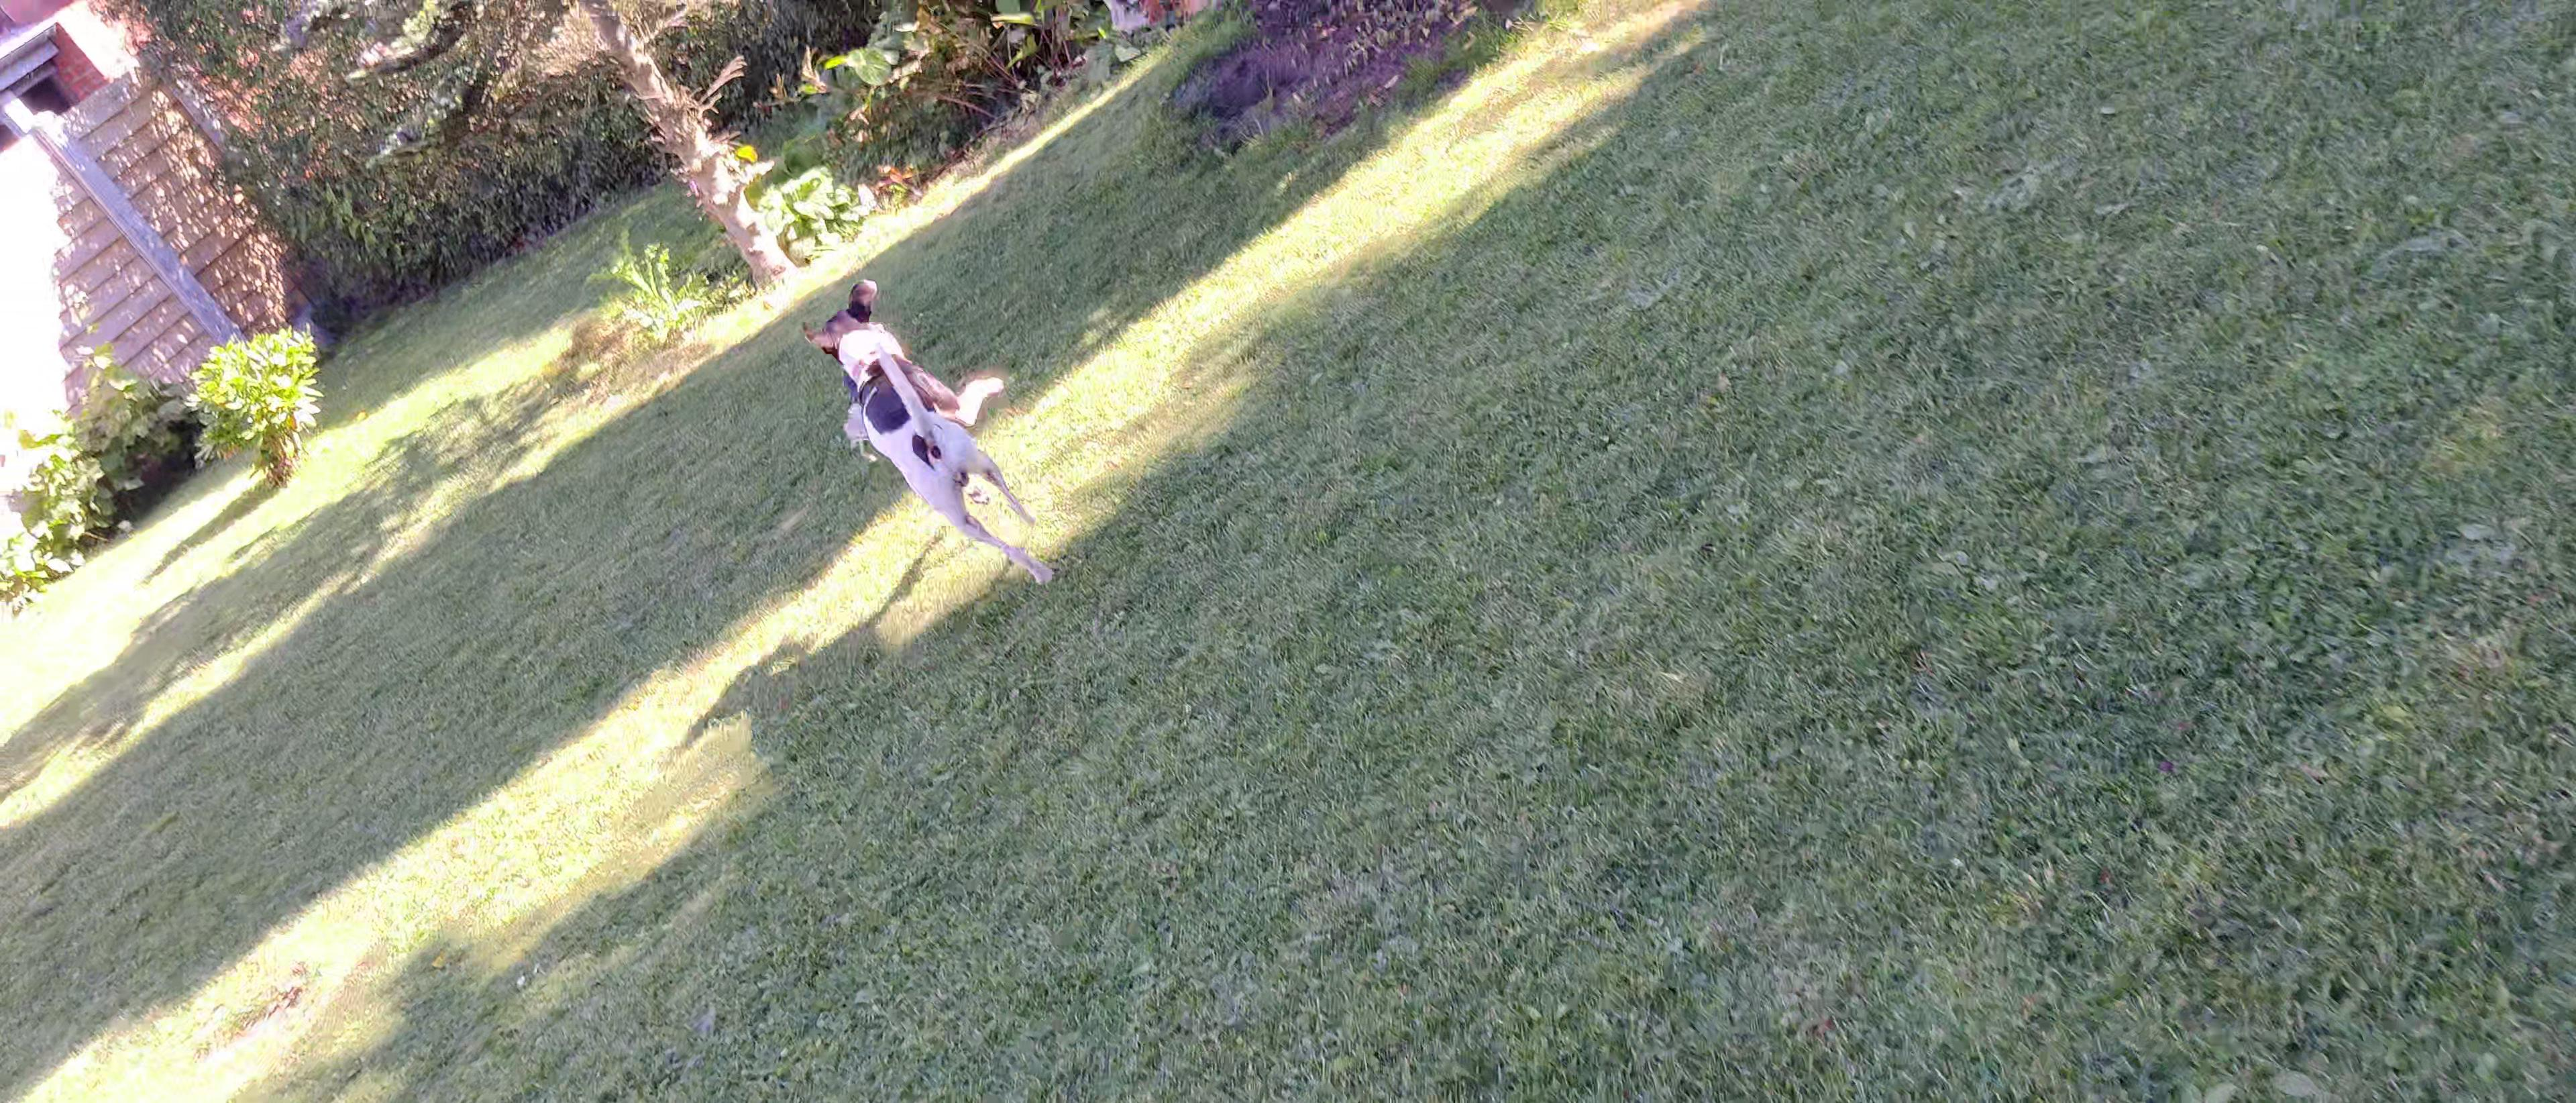Dog: (795, 271, 1058, 590)
